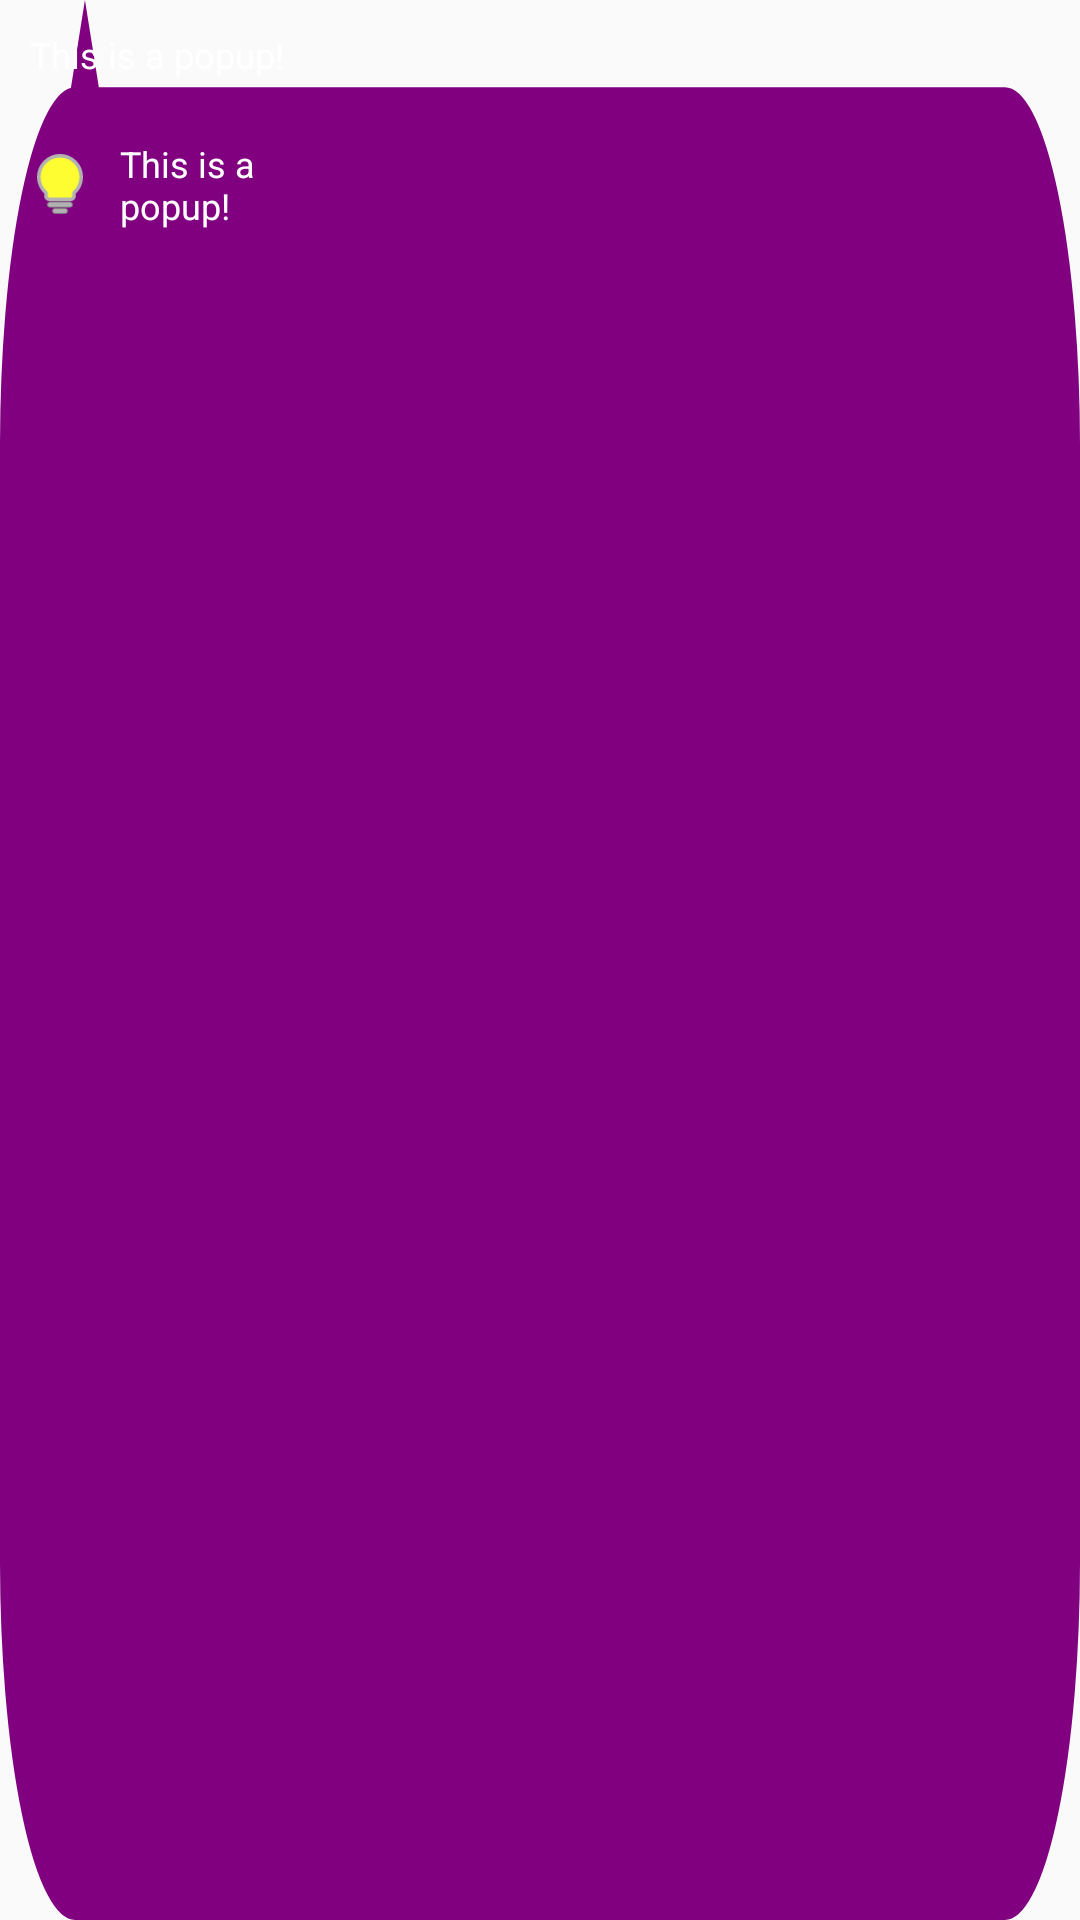

Where to tap for icons on this 1080*1920 app screen, as (x=x, y=y):
tips: (x=60, y=184)
